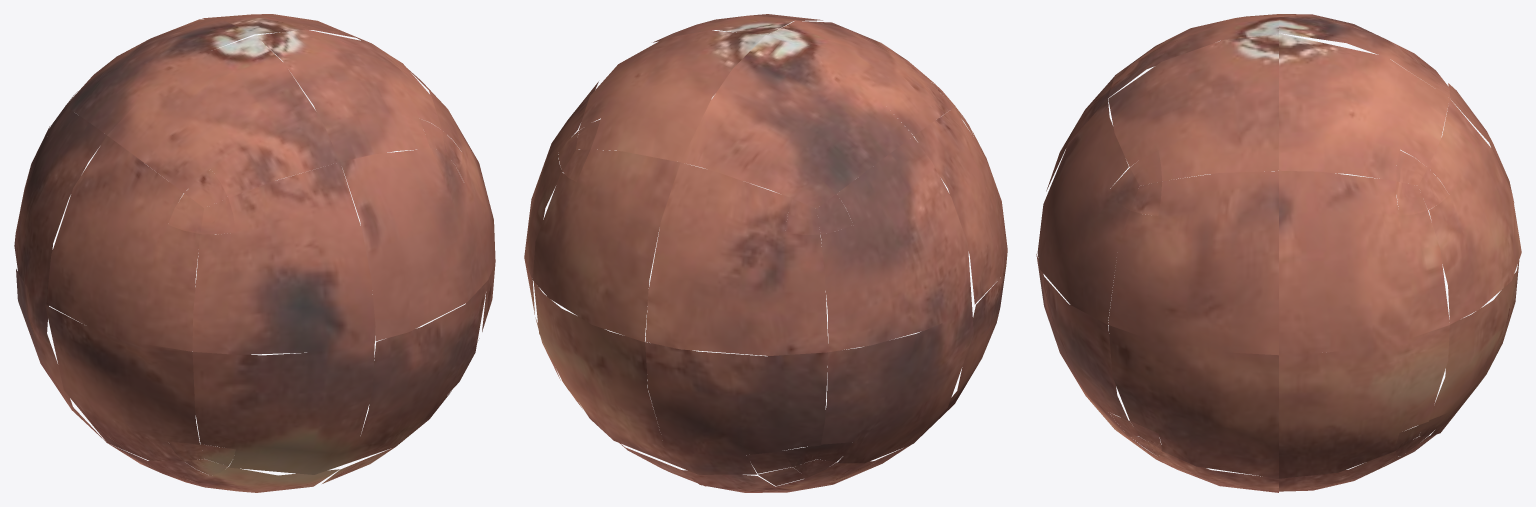
Rendered from mars-small.glb.
The picture shows the model from 3 angles, left to right: view 1: azimuth 30°, elevation 25°; view 2: azimuth 150°, elevation 25°; view 3: azimuth 270°, elevation 25°; orthographic projection.
Parts seen in each view (by area): view 1: Body; view 2: Body; view 3: Body.
Part boxes in pixels (x1,y1,x2,y2): Body: [14, 14, 495, 492]; Body: [524, 14, 1007, 492]; Body: [1036, 14, 1521, 492].
Size of the model in its own units: 2.02 by 2 by 2.02.
Materials: 1 (1 with a texture image).
